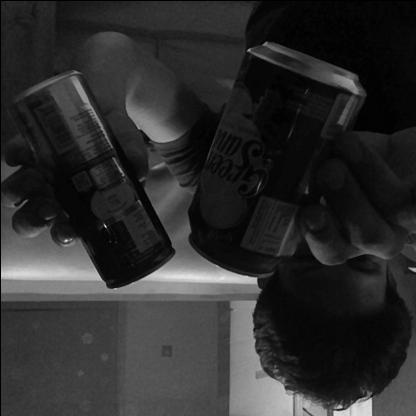alumunium_can: (184, 42, 360, 274), (15, 74, 172, 290)
